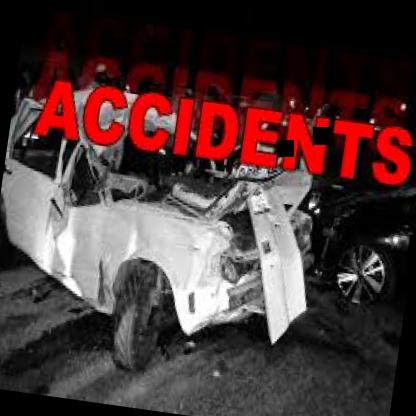accident: (50, 145, 410, 390)
